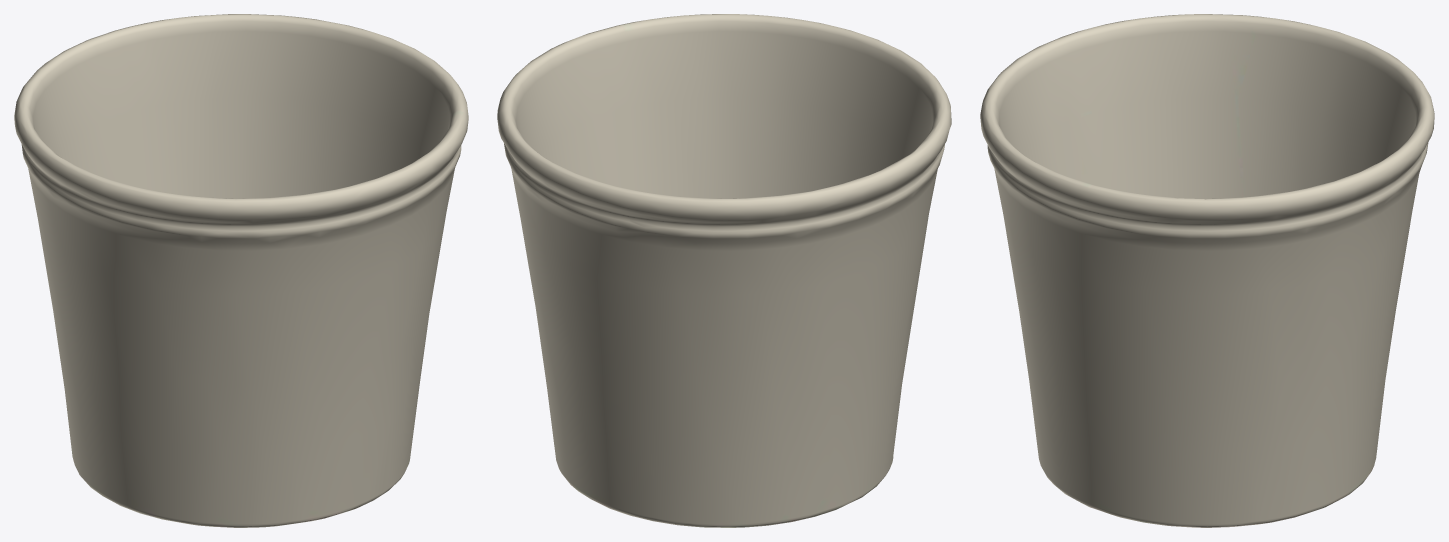
Rendered from koersbaersbjoerk_plant_pot_light_grey_be.glb.
3 renders of one model, left to right at view 1: azimuth 30°, elevation 25°; view 2: azimuth 150°, elevation 25°; view 3: azimuth 270°, elevation 25°, orthographic.
Visible parts, largest first — view 1: ASY_ART_80591720_S01_NV01; view 2: ASY_ART_80591720_S01_NV01; view 3: ASY_ART_80591720_S01_NV01.
Boxes of the visible parts, <box> form: ASY_ART_80591720_S01_NV01: <box>14,14,468,527</box>; ASY_ART_80591720_S01_NV01: <box>497,14,951,527</box>; ASY_ART_80591720_S01_NV01: <box>980,14,1434,527</box>.
Bounding box in the file's own units: 0.2463 × 0.2104 × 0.2465.
Materials: 1 (1 with a texture image).
